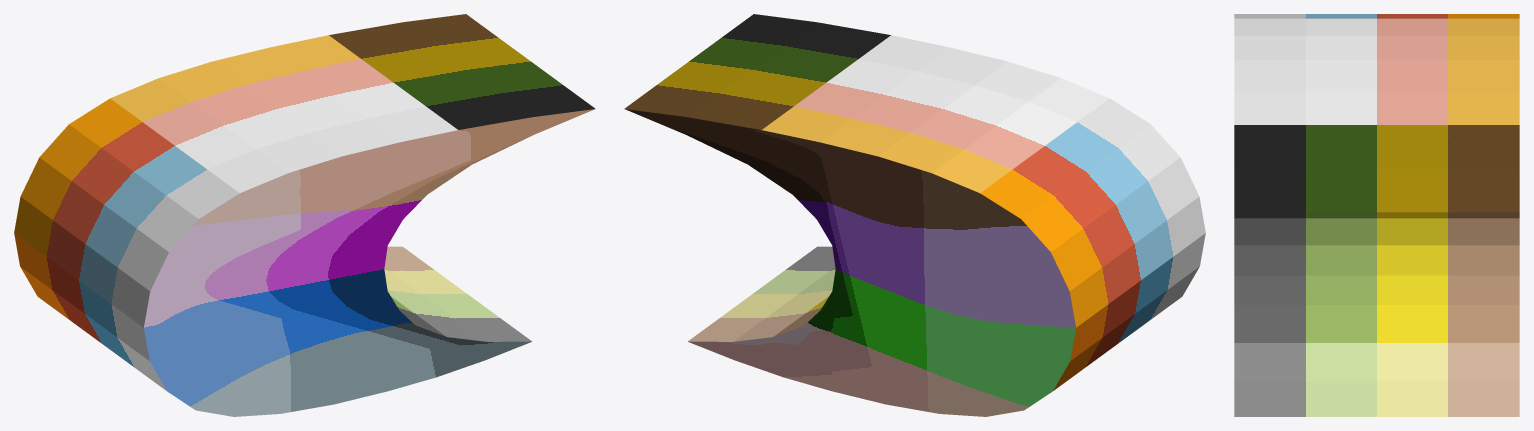
The model's file is slash_mod_01.fbx.
3 views of the same model, side by side, from view 1: azimuth 30°, elevation 25°; view 2: azimuth 150°, elevation 25°; view 3: azimuth 270°, elevation 25° (orthographic). The views are drawn at different scales.
Parts seen in each view (by area): view 1: Cube; view 2: Cube; view 3: Cube.
Part boxes in pixels (x1,y1,x2,y2): Cube: [14, 14, 595, 416]; Cube: [624, 14, 1205, 416]; Cube: [1234, 14, 1519, 416].
Size of the model in its own units: 4.02 by 2 by 2.09.
